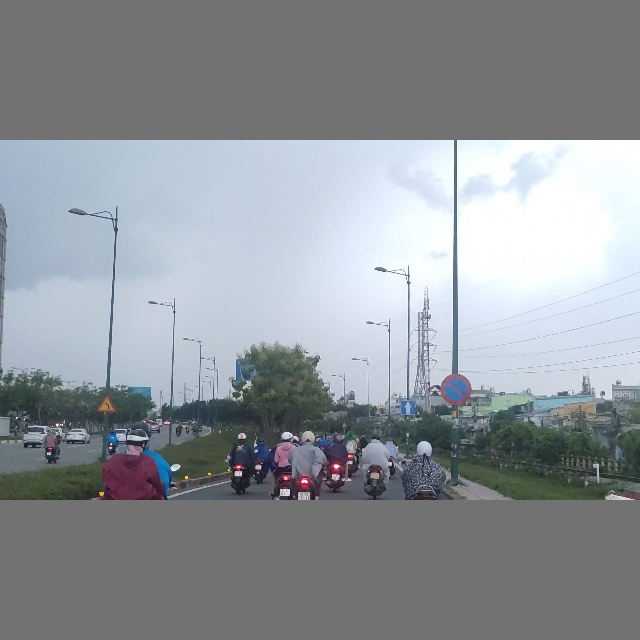I.407a: (401, 400, 416, 414)
P.131a: (440, 374, 472, 405)
W.201a: (98, 395, 116, 412)
